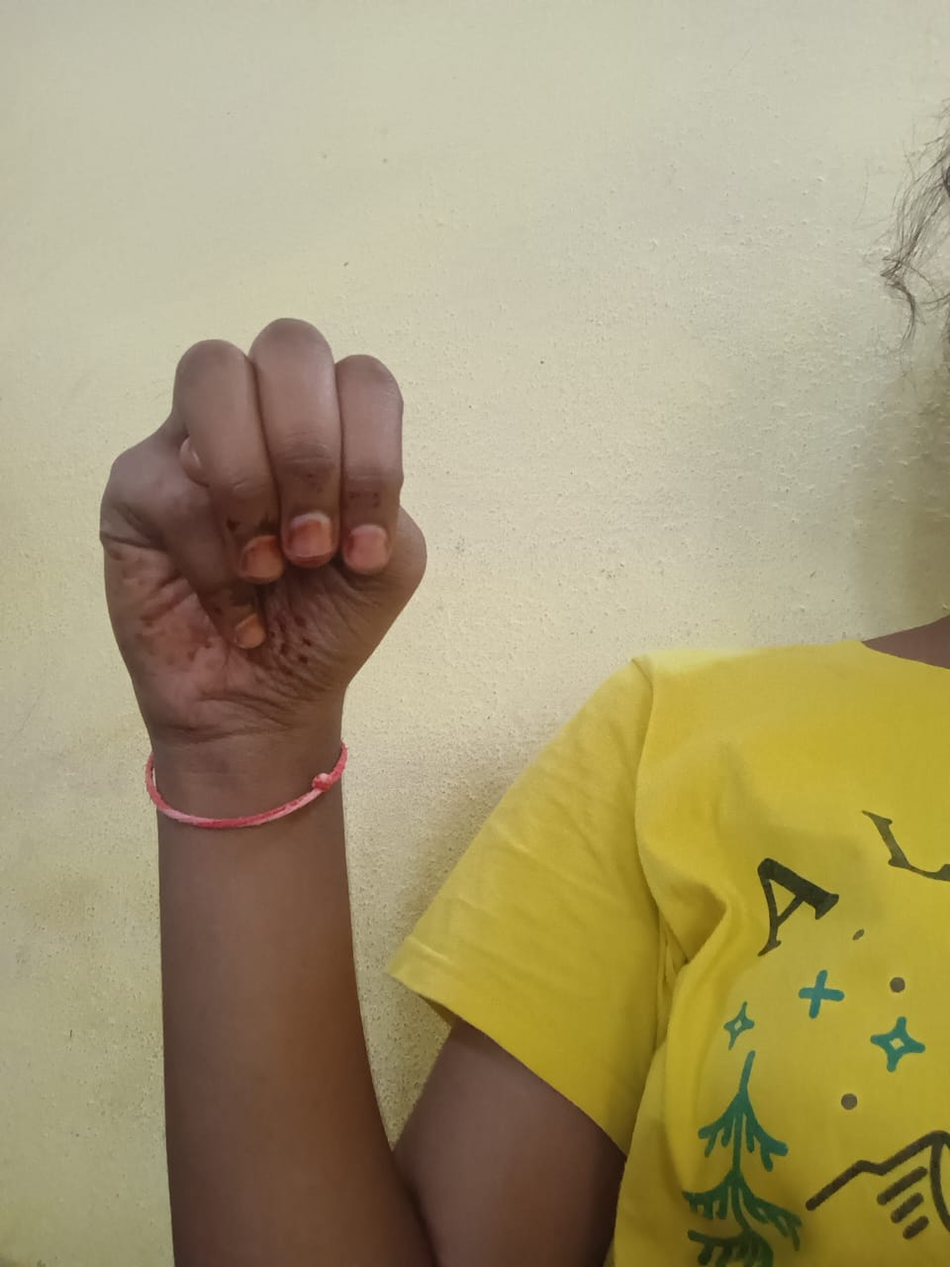M: (100, 315, 428, 716)
